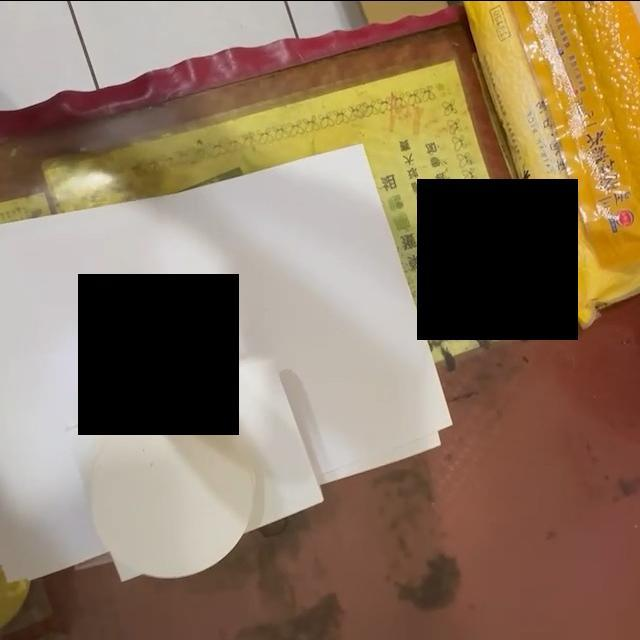carrot: (101, 292, 212, 420)
